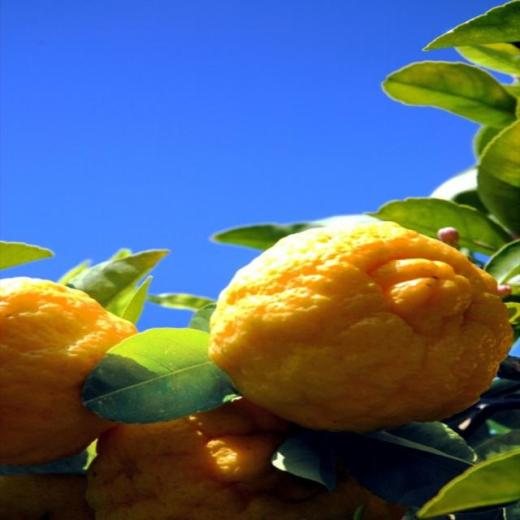Grape: (198, 212, 514, 427), (0, 278, 132, 466), (97, 394, 282, 520), (235, 471, 336, 520)
